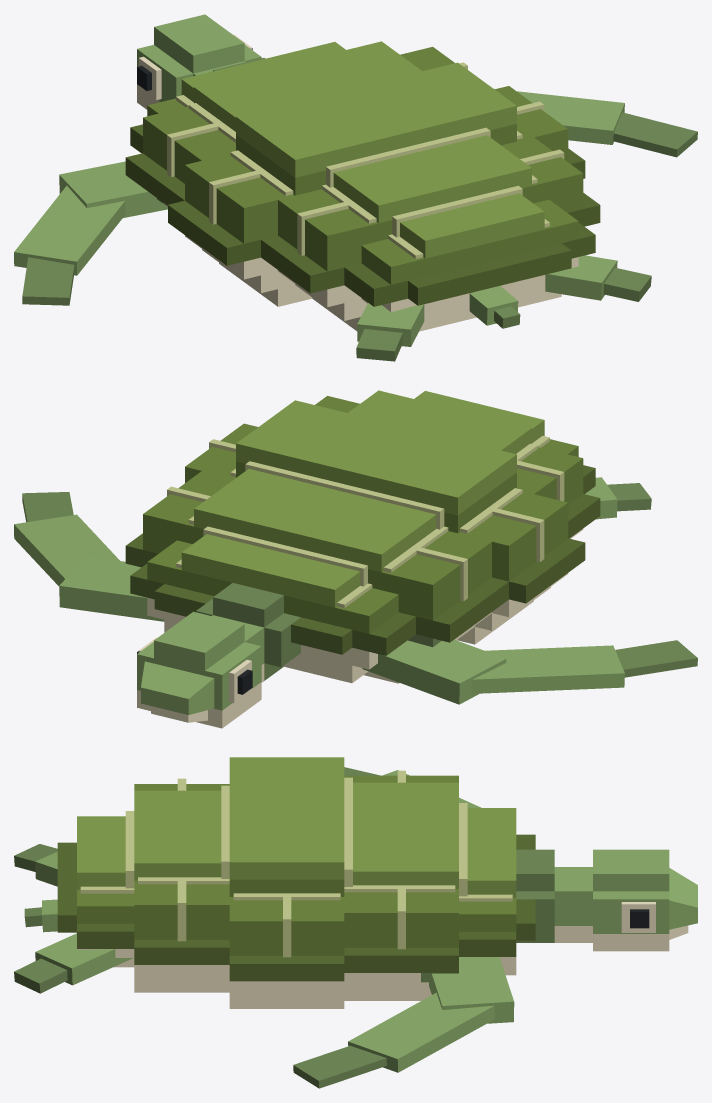
File: SeaTurtle.obj
The picture shows the model from 3 angles, top to bottom: view 1: azimuth 30°, elevation 25°; view 2: azimuth 150°, elevation 25°; view 3: azimuth 270°, elevation 25°; orthographic projection. The views are drawn at different scales.
Parts seen in each view (by area): view 1: Shell, FlipFL, Head, FlipFR, FlipBR, FlipBL; view 2: Shell, FlipFL, Head, FlipFR, FlipBL; view 3: Shell, Head, FlipFR, FlipBR, FlipBL.
Boxes of the visible parts, left/top/right/bottom form: Shell: left=125, top=41, right=600, bottom=331; FlipFL: left=14, top=161, right=167, bottom=305; Head: left=137, top=14, right=261, bottom=109; FlipFR: left=494, top=89, right=697, bottom=157; FlipBR: left=545, top=255, right=651, bottom=301; FlipBL: left=356, top=303, right=424, bottom=361; Shell: left=125, top=390, right=600, bottom=683; FlipFL: left=362, top=639, right=697, bottom=704; Head: left=137, top=611, right=264, bottom=728; FlipFR: left=14, top=492, right=164, bottom=621; FlipBL: left=585, top=477, right=651, bottom=519; Shell: left=24, top=757, right=554, bottom=1008; Head: left=554, top=849, right=697, bottom=951; FlipFR: left=293, top=957, right=514, bottom=1088; FlipBR: left=14, top=933, right=132, bottom=993; FlipBL: left=14, top=844, right=57, bottom=886.
Size of the model in its own units: 15.84 by 3.2 by 14.32.
Materials: 1 (1 with a texture image).
